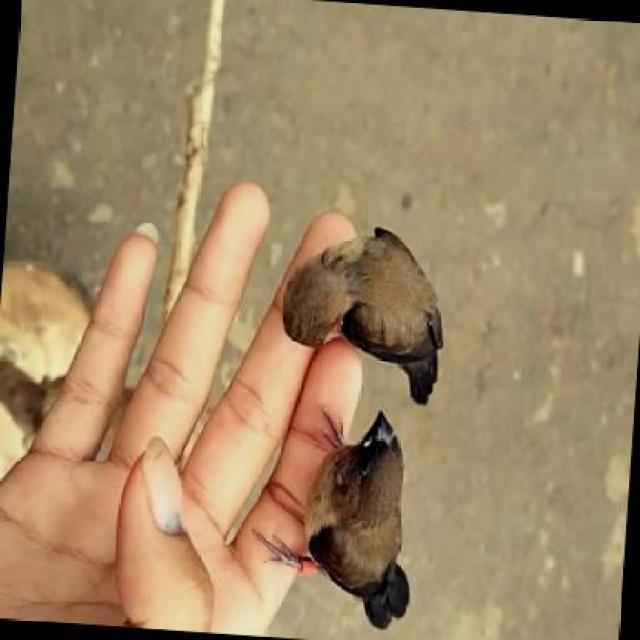Bird: (288, 412, 451, 620), (289, 216, 463, 405)
